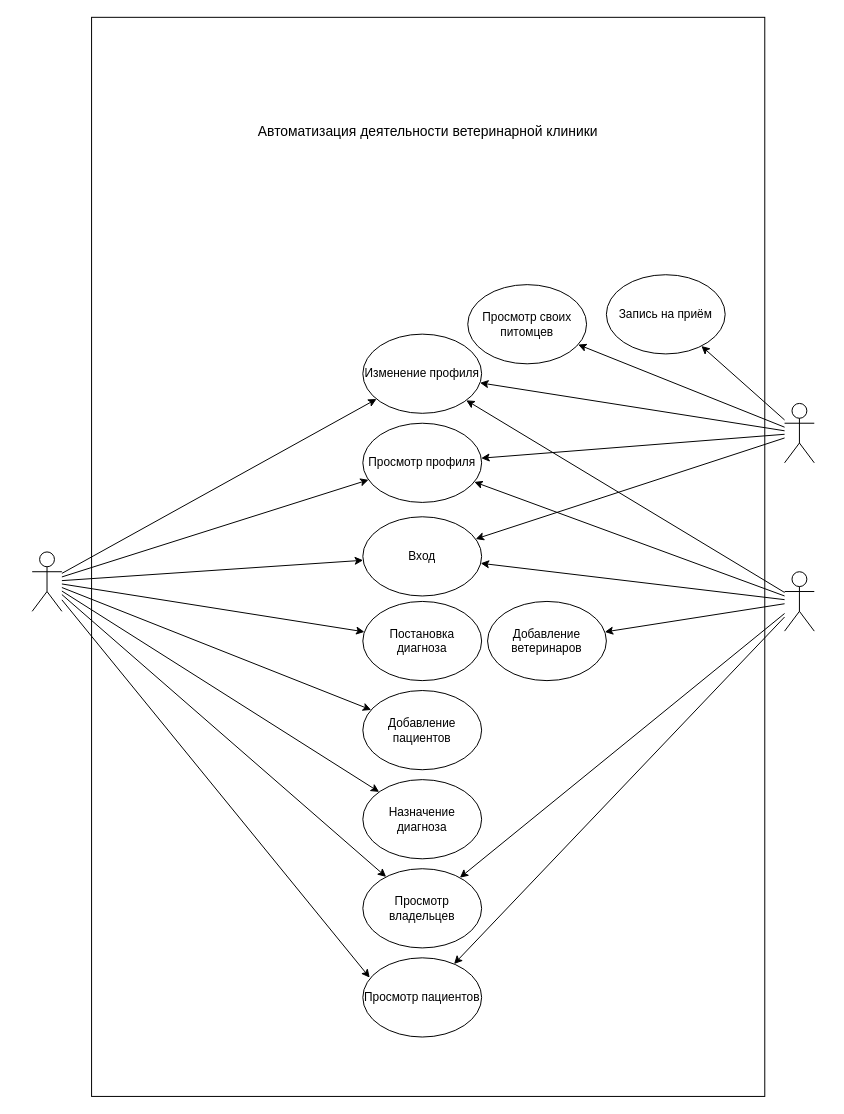
The diagram is 844 pixels wide and 1114 high, and some of its shapes have lost their labels. The shapes that lost their labels are listed below. From the top down, each one's centre as x and y in pixels, then its label:
point 799,432: Клиент
point 46,581: Ветеринар
point 799,601: Менеджер
